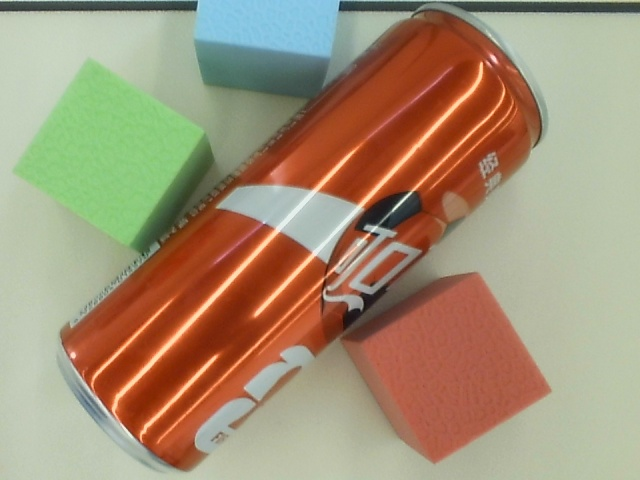bluecube: (194, 1, 340, 99)
cola: (48, 3, 564, 480)
greencube: (10, 55, 226, 254)
redcube: (335, 270, 563, 467)
